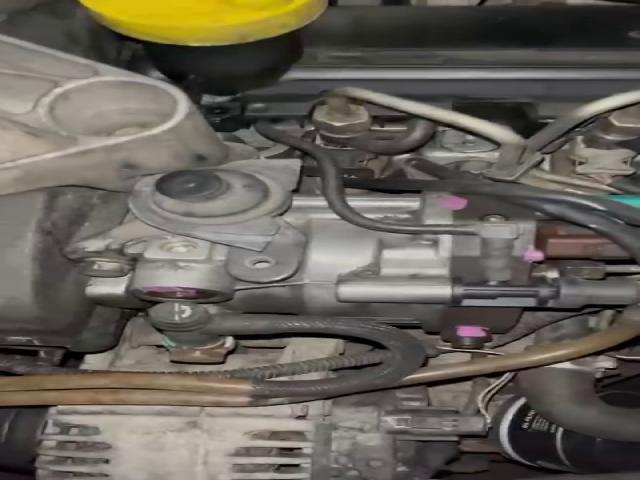alternator: (35, 382, 495, 479)
high_pressure_pump: (129, 191, 555, 350)
